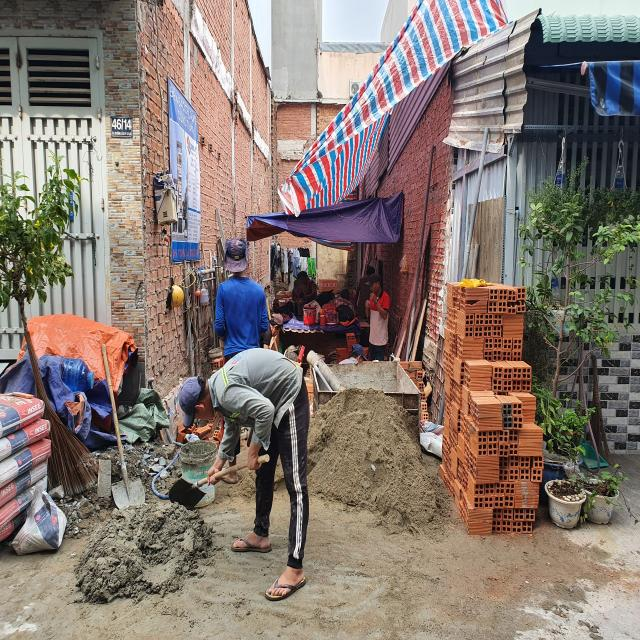no_boots: (264, 562, 306, 601), (231, 528, 275, 552), (214, 462, 242, 486)
no_gloves: (204, 458, 224, 486), (245, 446, 262, 468), (366, 298, 370, 308), (370, 292, 376, 298)
no_hardhat: (178, 371, 216, 432), (224, 237, 247, 279), (373, 278, 383, 296)
no_vest: (205, 349, 308, 444), (217, 279, 273, 362), (367, 294, 390, 348)
person: (176, 347, 311, 606), (216, 234, 274, 493), (369, 272, 388, 362)
